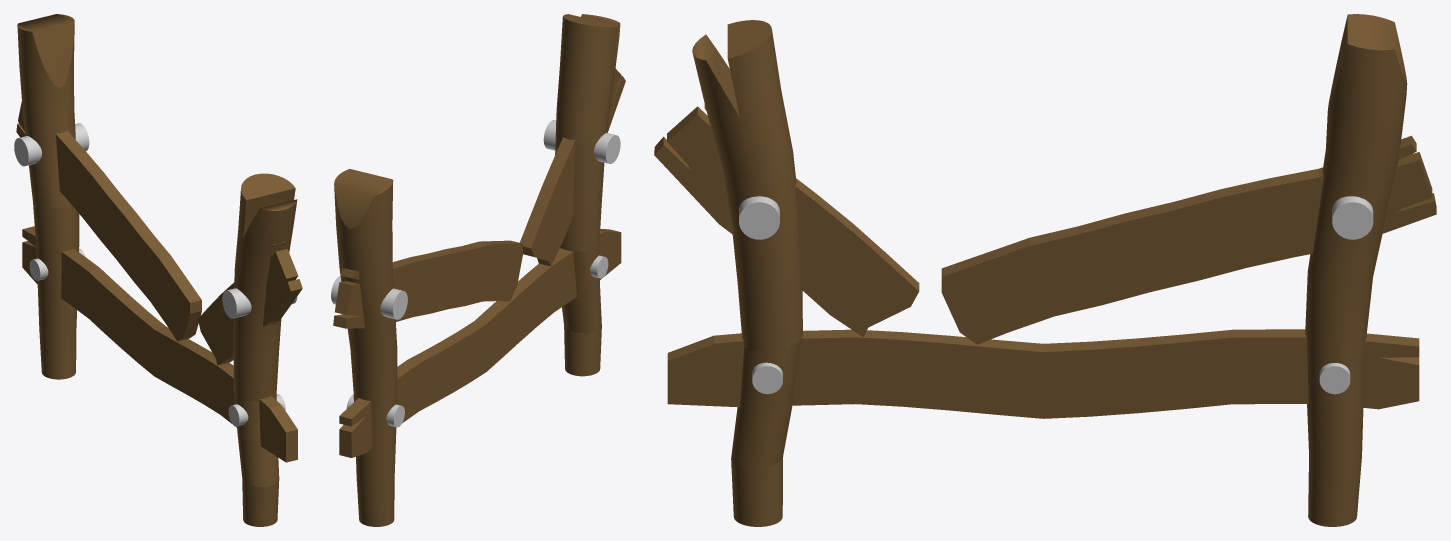
File: fence3.fbx
3 renders of one model, left to right at view 1: azimuth 30°, elevation 25°; view 2: azimuth 150°, elevation 25°; view 3: azimuth 270°, elevation 25°, orthographic. The views are drawn at different scales.
Visible parts, largest first — view 1: Cylinder.013, Cylinder.012, Cube.005, Cube.004, Cube.006, Cylinder.017, Cylinder.014, Cylinder.015, Cylinder.016; view 2: Cylinder.013, Cylinder.012, Cube.005, Cube.004, Cube.006, Cylinder.014, Cylinder.017, Cylinder.016; view 3: Cube.005, Cube.004, Cylinder.013, Cylinder.012, Cube.006, Cylinder.017, Cylinder.014.
Part boxes in pixels (x1,y1,x2,y2): Cylinder.013: (17, 14, 79, 379); Cylinder.012: (233, 173, 297, 526); Cube.005: (22, 226, 297, 462); Cube.004: (16, 101, 201, 341); Cube.006: (198, 242, 302, 365); Cylinder.017: (14, 123, 89, 166); Cylinder.014: (222, 288, 297, 318); Cylinder.015: (228, 394, 285, 426); Cylinder.016: (29, 248, 85, 280); Cylinder.013: (334, 169, 397, 526); Cylinder.012: (555, 14, 620, 376); Cube.005: (339, 229, 621, 457); Cube.004: (333, 240, 522, 328); Cube.006: (520, 68, 625, 266); Cylinder.014: (543, 120, 620, 163); Cylinder.017: (331, 276, 407, 319); Cylinder.016: (346, 394, 404, 427); Cube.005: (667, 329, 1419, 418); Cube.004: (941, 135, 1436, 344); Cylinder.013: (1305, 14, 1407, 526); Cylinder.012: (692, 20, 802, 526); Cube.006: (654, 104, 919, 337); Cylinder.017: (1332, 196, 1373, 239); Cylinder.014: (739, 196, 779, 239).
Bounding box in the file's own units: 245 × 1319 × 1919.
